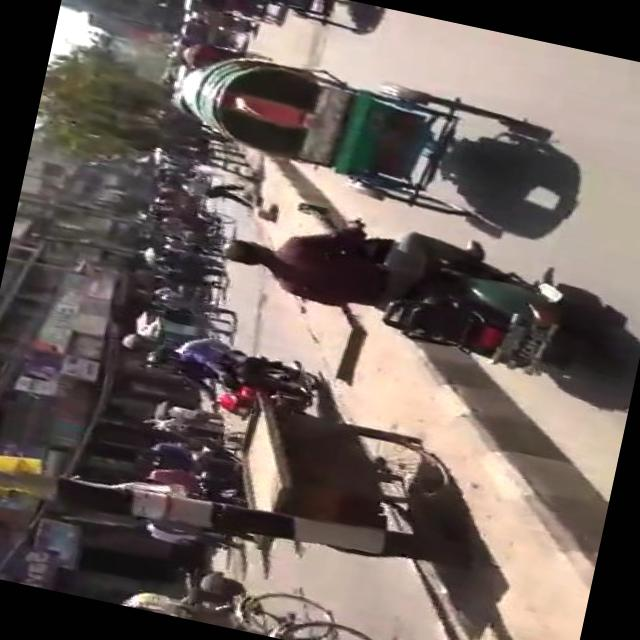motorcycle: (202, 181, 594, 385), (157, 29, 521, 225), (122, 317, 334, 442), (109, 552, 401, 640), (136, 194, 237, 258), (201, 0, 369, 32), (178, 36, 270, 80), (182, 0, 287, 24), (173, 16, 246, 46)
